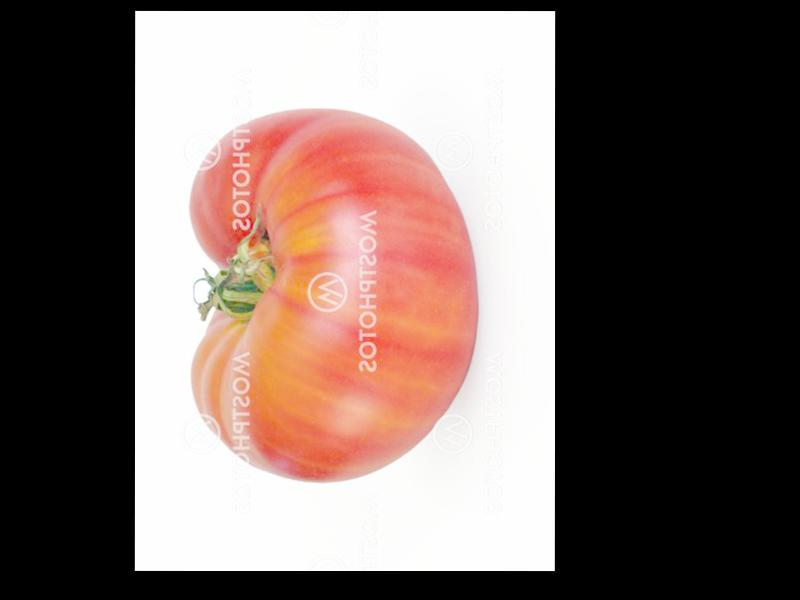Tomato: (188, 109, 476, 482)
